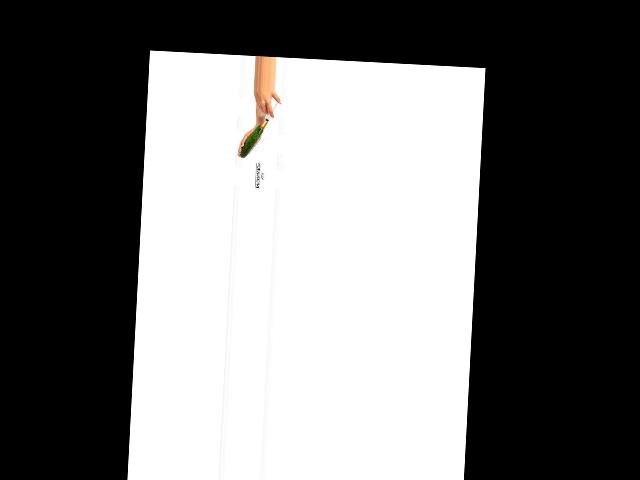cucumber: (240, 124, 263, 158)
